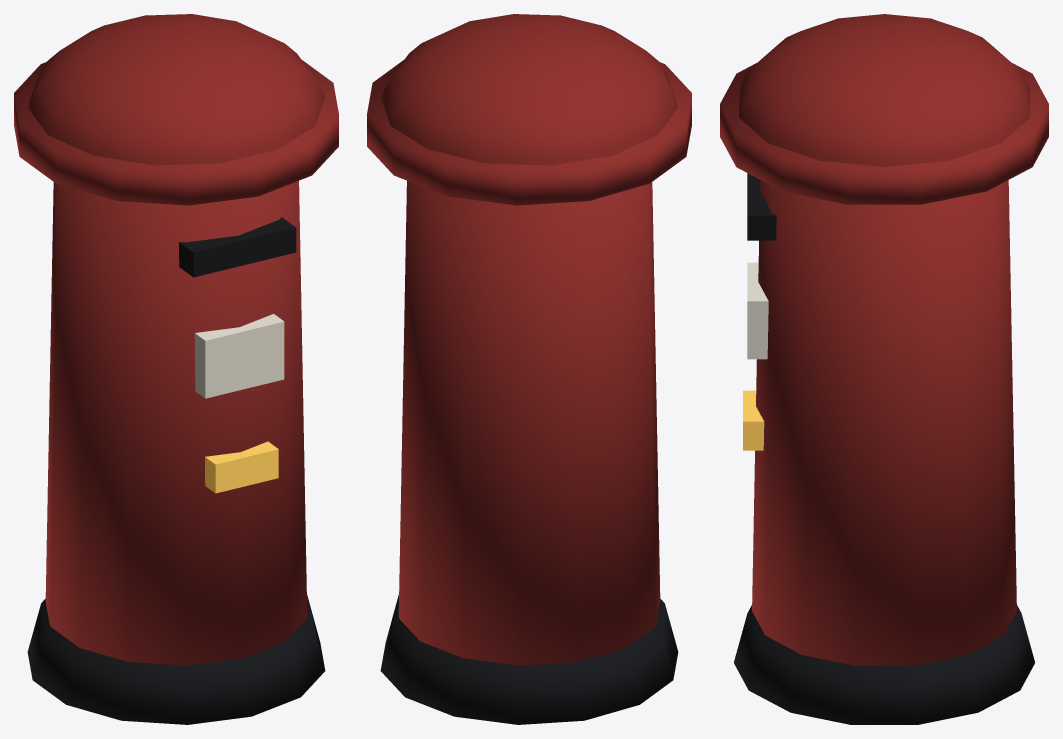
File: cp_postbox.glb
The picture shows the model from 3 angles, left to right: view 1: azimuth 30°, elevation 25°; view 2: azimuth 150°, elevation 25°; view 3: azimuth 270°, elevation 25°; orthographic projection.
Visible parts, largest first — view 1: city_cp_postbox; view 2: city_cp_postbox; view 3: city_cp_postbox.
Part boxes in pixels (left/top/right/bottom): city_cp_postbox: left=14, top=14, right=338, bottom=724; city_cp_postbox: left=367, top=14, right=691, bottom=724; city_cp_postbox: left=720, top=14, right=1048, bottom=724.
Bounding box in the file's own units: 0.7019 × 1.51 × 0.72.
Materials: 1 (1 with a texture image).
